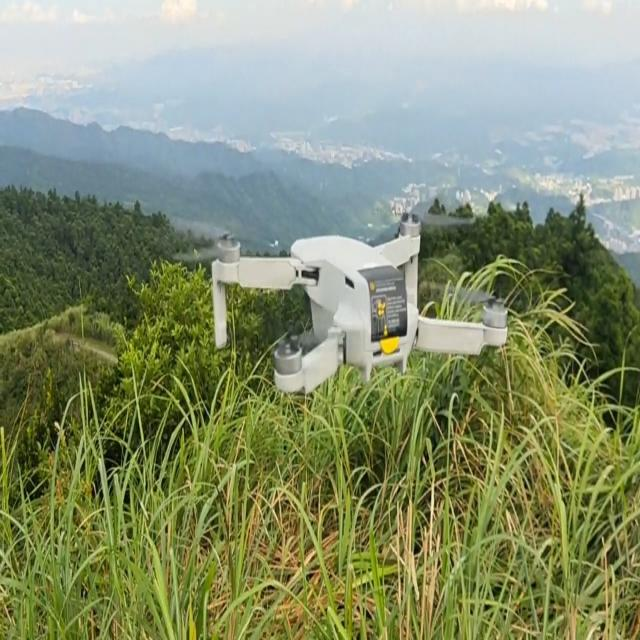Drone: (207, 220, 511, 410)
